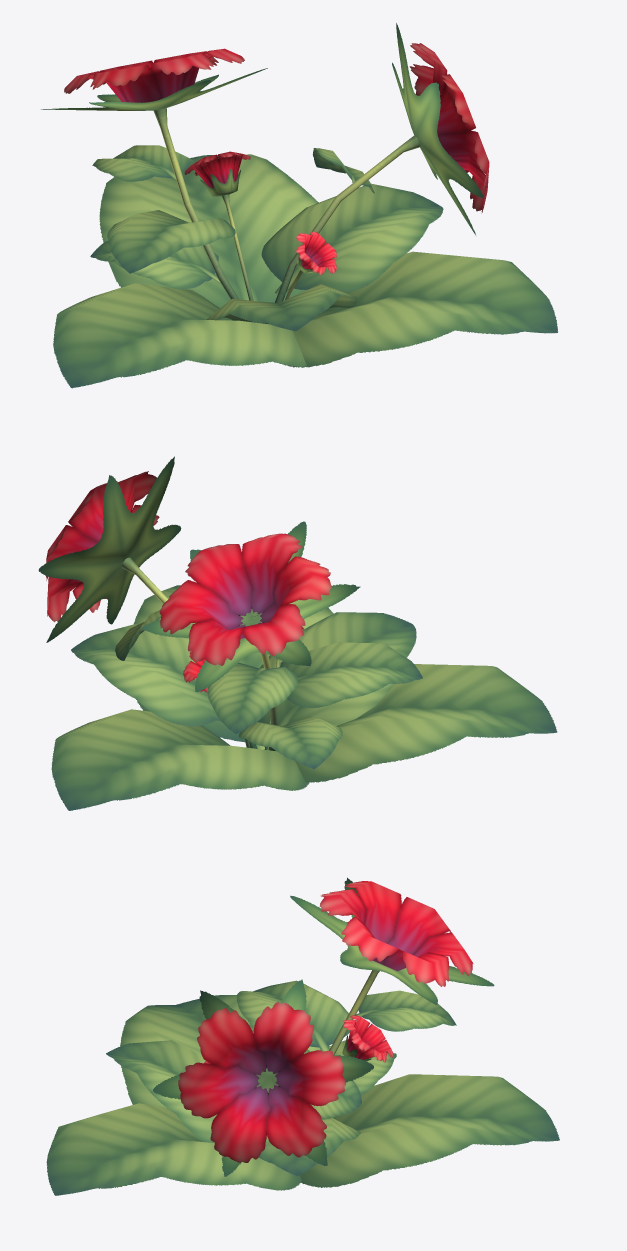
Rendered from ENV1110012.FBX.
3 renders of one model, top to bottom at view 1: azimuth 30°, elevation 25°; view 2: azimuth 150°, elevation 25°; view 3: azimuth 270°, elevation 25°, orthographic. The views are drawn at different scales.
Parts seen in each view (by area): view 1: smENV1110012; view 2: smENV1110012; view 3: smENV1110012.
Boxes of the visible parts, x1,y1,x2,y2 form: smENV1110012: (41, 23, 557, 388); smENV1110012: (38, 456, 557, 810); smENV1110012: (46, 877, 559, 1195).
Size of the model in its own units: 24.31 by 13.37 by 26.22.
1 material, 1 textured.
